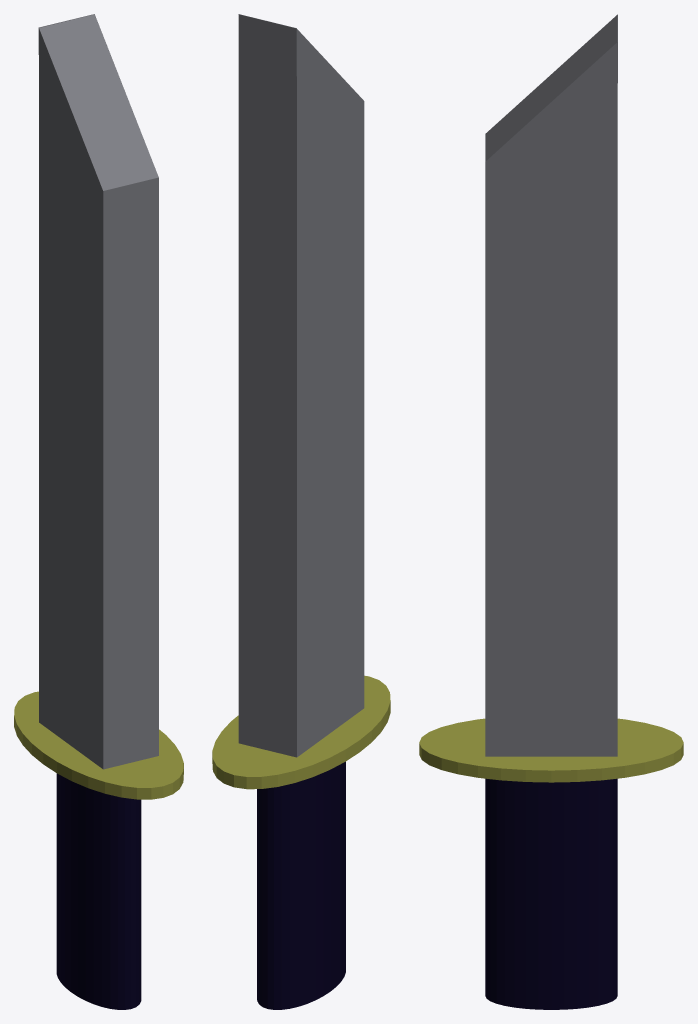
File: sowrd.fbx
3 renders of one model, left to right at view 1: azimuth 30°, elevation 25°; view 2: azimuth 150°, elevation 25°; view 3: azimuth 270°, elevation 25°, orthographic. The views are drawn at different scales.
Parts seen in each view (by area): view 1: Cube, Cylinder, Cube.001, Cylinder.001; view 2: Cube, Cylinder, Cube.001, Cylinder.001; view 3: Cube, Cylinder, Cube.001, Cylinder.001.
Part boxes in pixels (left/top/right/bottom): Cube: left=39, top=144, right=158, bottom=769; Cylinder: left=56, top=773, right=141, bottom=1009; Cube.001: left=38, top=14, right=158, bottom=190; Cylinder.001: left=14, top=691, right=183, bottom=799; Cube: left=238, top=101, right=364, bottom=757; Cylinder: left=257, top=761, right=345, bottom=1009; Cube.001: left=238, top=14, right=363, bottom=150; Cylinder.001: left=212, top=675, right=390, bottom=789; Cube: left=485, top=134, right=617, bottom=756; Cylinder: left=485, top=778, right=617, bottom=1009; Cube.001: left=485, top=14, right=617, bottom=161; Cylinder.001: left=419, top=718, right=683, bottom=782.
Size of the model in its own units: 200 by 1615 by 400.
